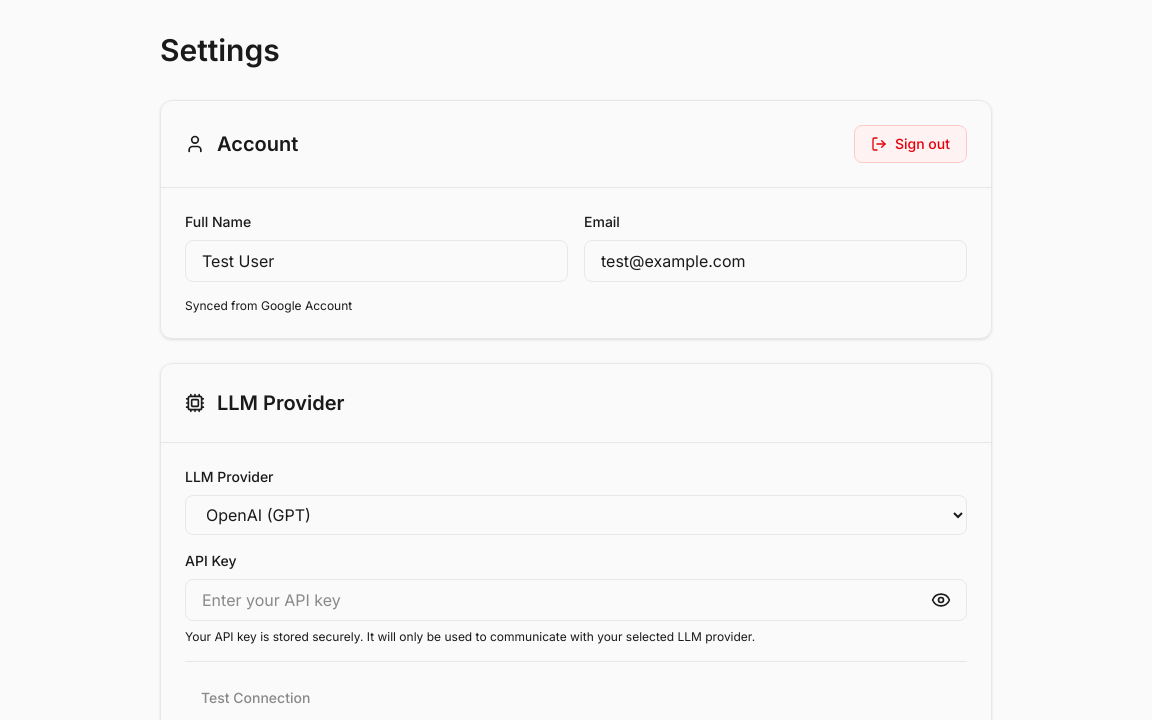
Test: Settings Component - Test Connection › should disable button during connection test
# Enter API key
Type "sk-test1234567890" into the password field with test id "ai-agent-api-key" at (576,600), box 185,579 -> 967,621
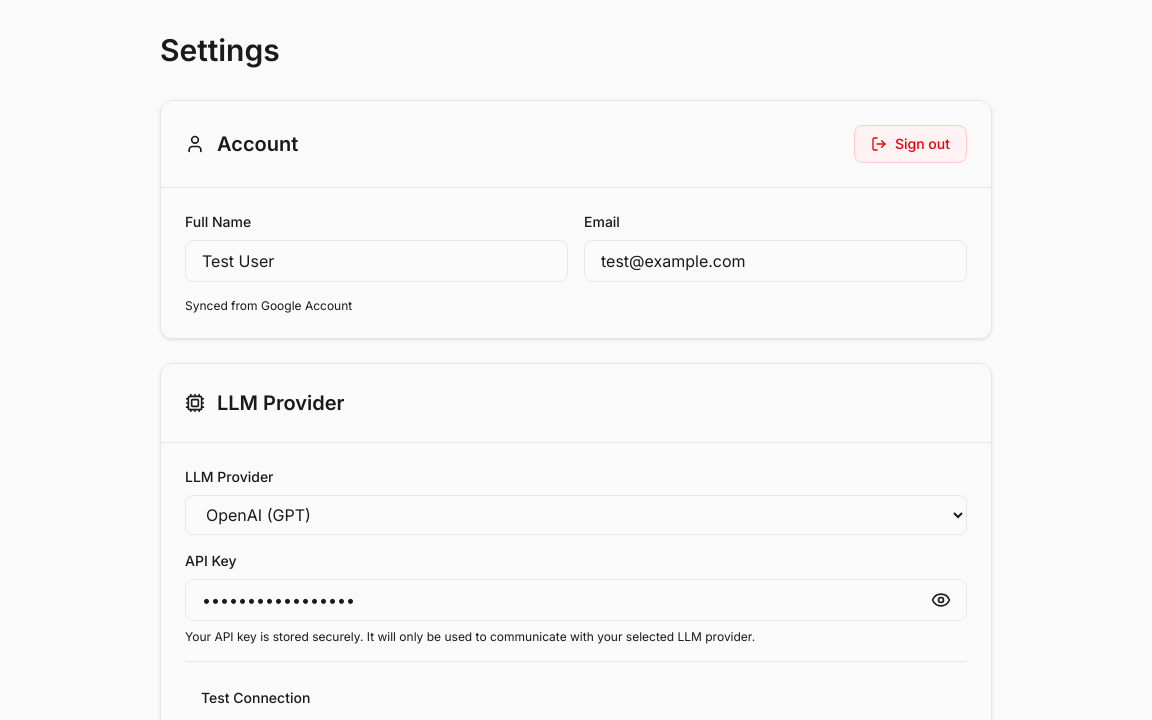
# Click Test Connection button
Click the button "Test Connection" at (256,698), box 185,678 -> 326,718
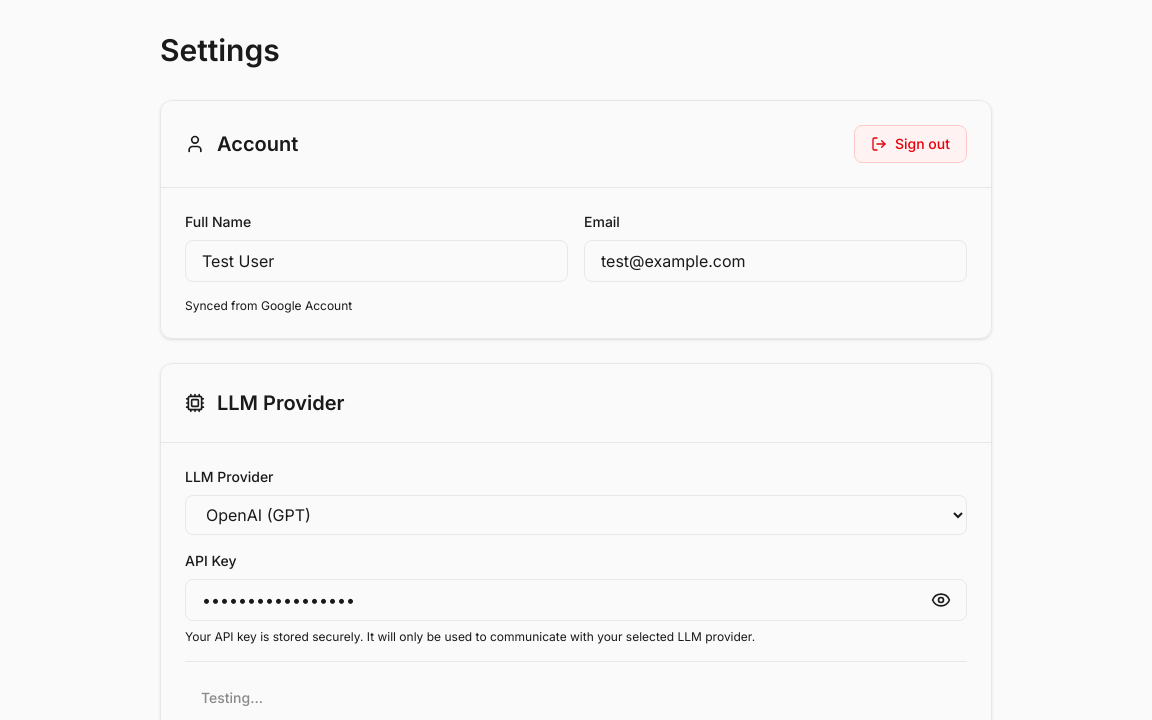
Result: the button "Testing..." is disabled
# Try clicking again (should not trigger another test)
Click the button "Testing..." at (232,698), box 185,678 -> 279,718
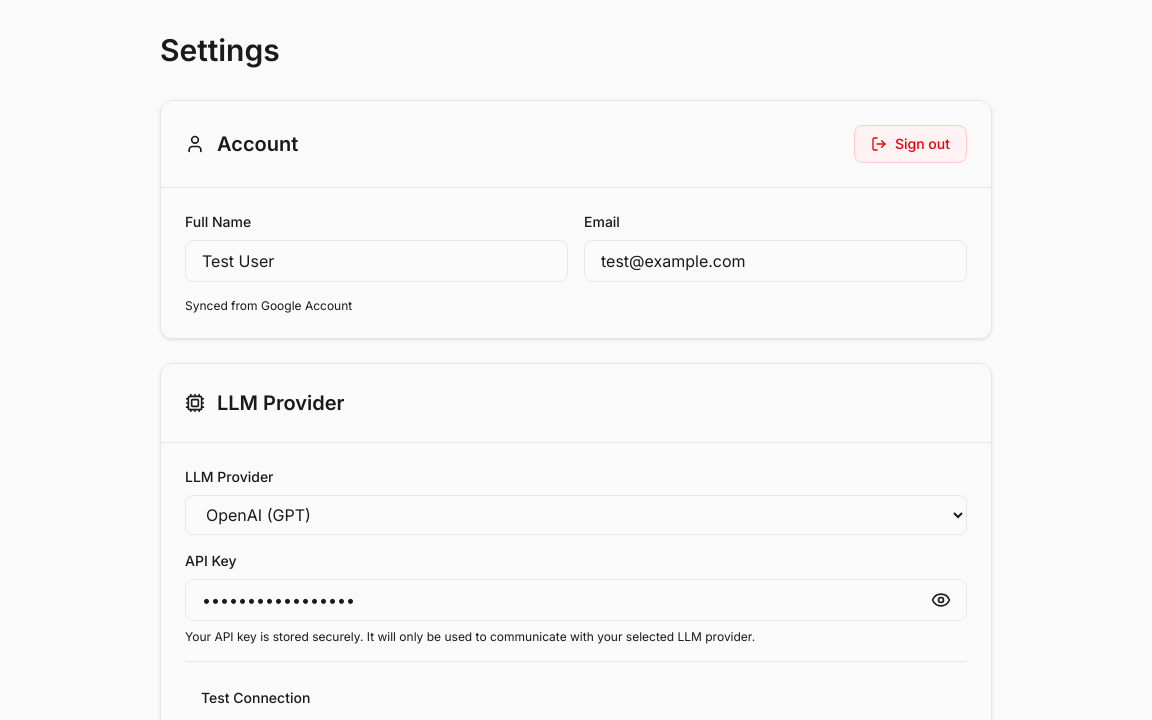
Result: the button "Test Connection" is shown at 185,678 -> 326,718
